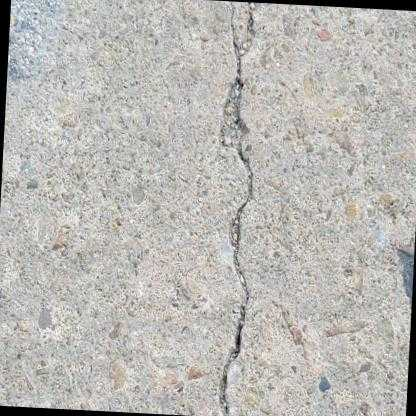crack: (218, 2, 252, 416)
